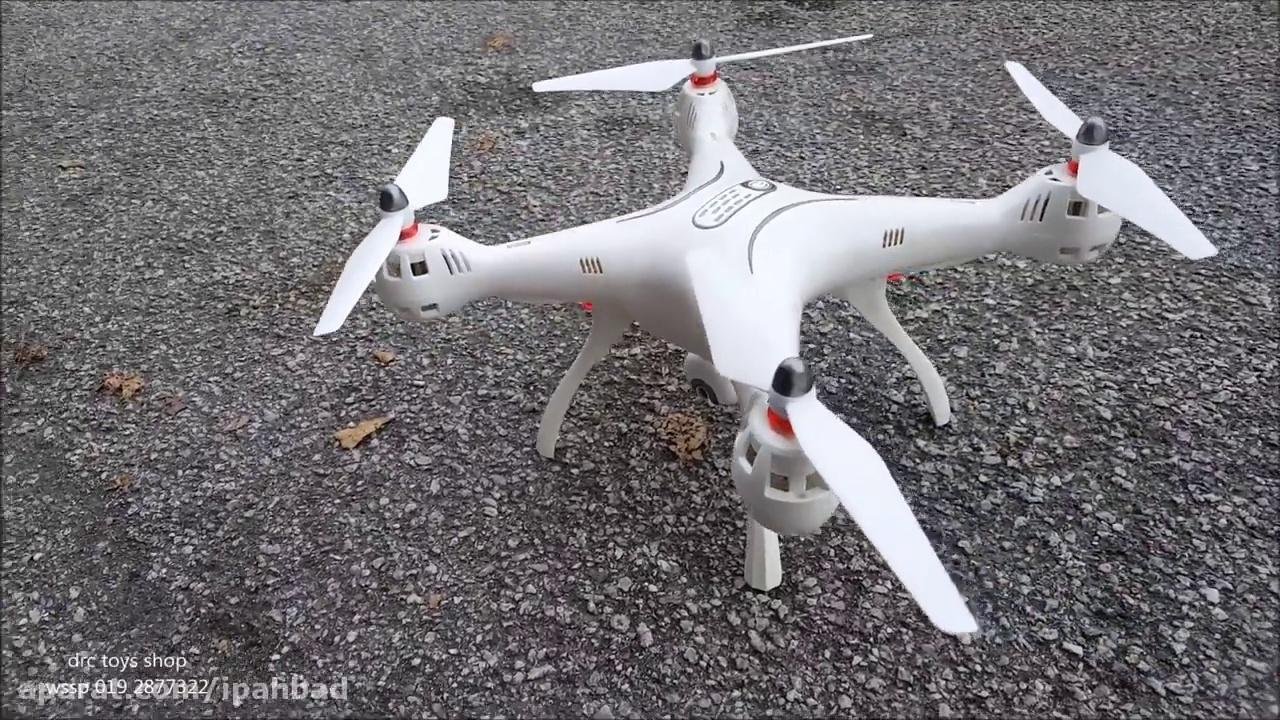drone: (306, 28, 1212, 642)
